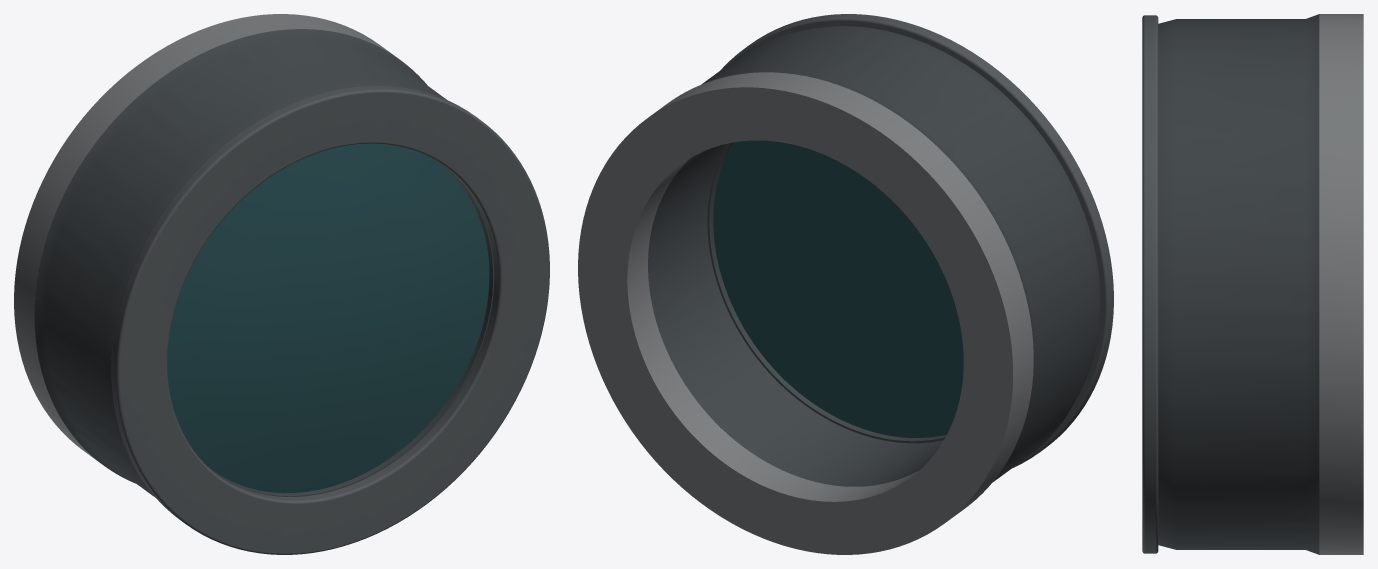
The model's file is gopro-optical-assembly.glb.
3 views of the same model, side by side, from view 1: azimuth 30°, elevation 25°; view 2: azimuth 150°, elevation 25°; view 3: azimuth 270°, elevation 25° (orthographic). The views are drawn at different scales.
Visible parts, largest first — view 1: G09_LENS_GLASS, G08_LENS_FRONT_RING, G07_LENS_BARREL, G06_LENS_BASE; view 2: G06_LENS_BASE, G07_LENS_BARREL, G09_LENS_GLASS, G08_LENS_FRONT_RING; view 3: G07_LENS_BARREL, G06_LENS_BASE, G08_LENS_FRONT_RING.
Boxes of the visible parts, x1,y1,x2,y2 form: G09_LENS_GLASS: [167, 143, 489, 493]; G08_LENS_FRONT_RING: [111, 85, 549, 554]; G07_LENS_BARREL: [34, 29, 493, 497]; G06_LENS_BASE: [14, 14, 395, 481]; G06_LENS_BASE: [578, 72, 1033, 554]; G07_LENS_BARREL: [648, 26, 1100, 499]; G09_LENS_GLASS: [713, 140, 963, 437]; G08_LENS_FRONT_RING: [721, 14, 1113, 467]; G07_LENS_BARREL: [1158, 14, 1319, 554]; G06_LENS_BASE: [1319, 14, 1363, 554]; G08_LENS_FRONT_RING: [1142, 15, 1158, 553].
Size of the model in its own units: 0.022 by 0.022 by 0.009.
